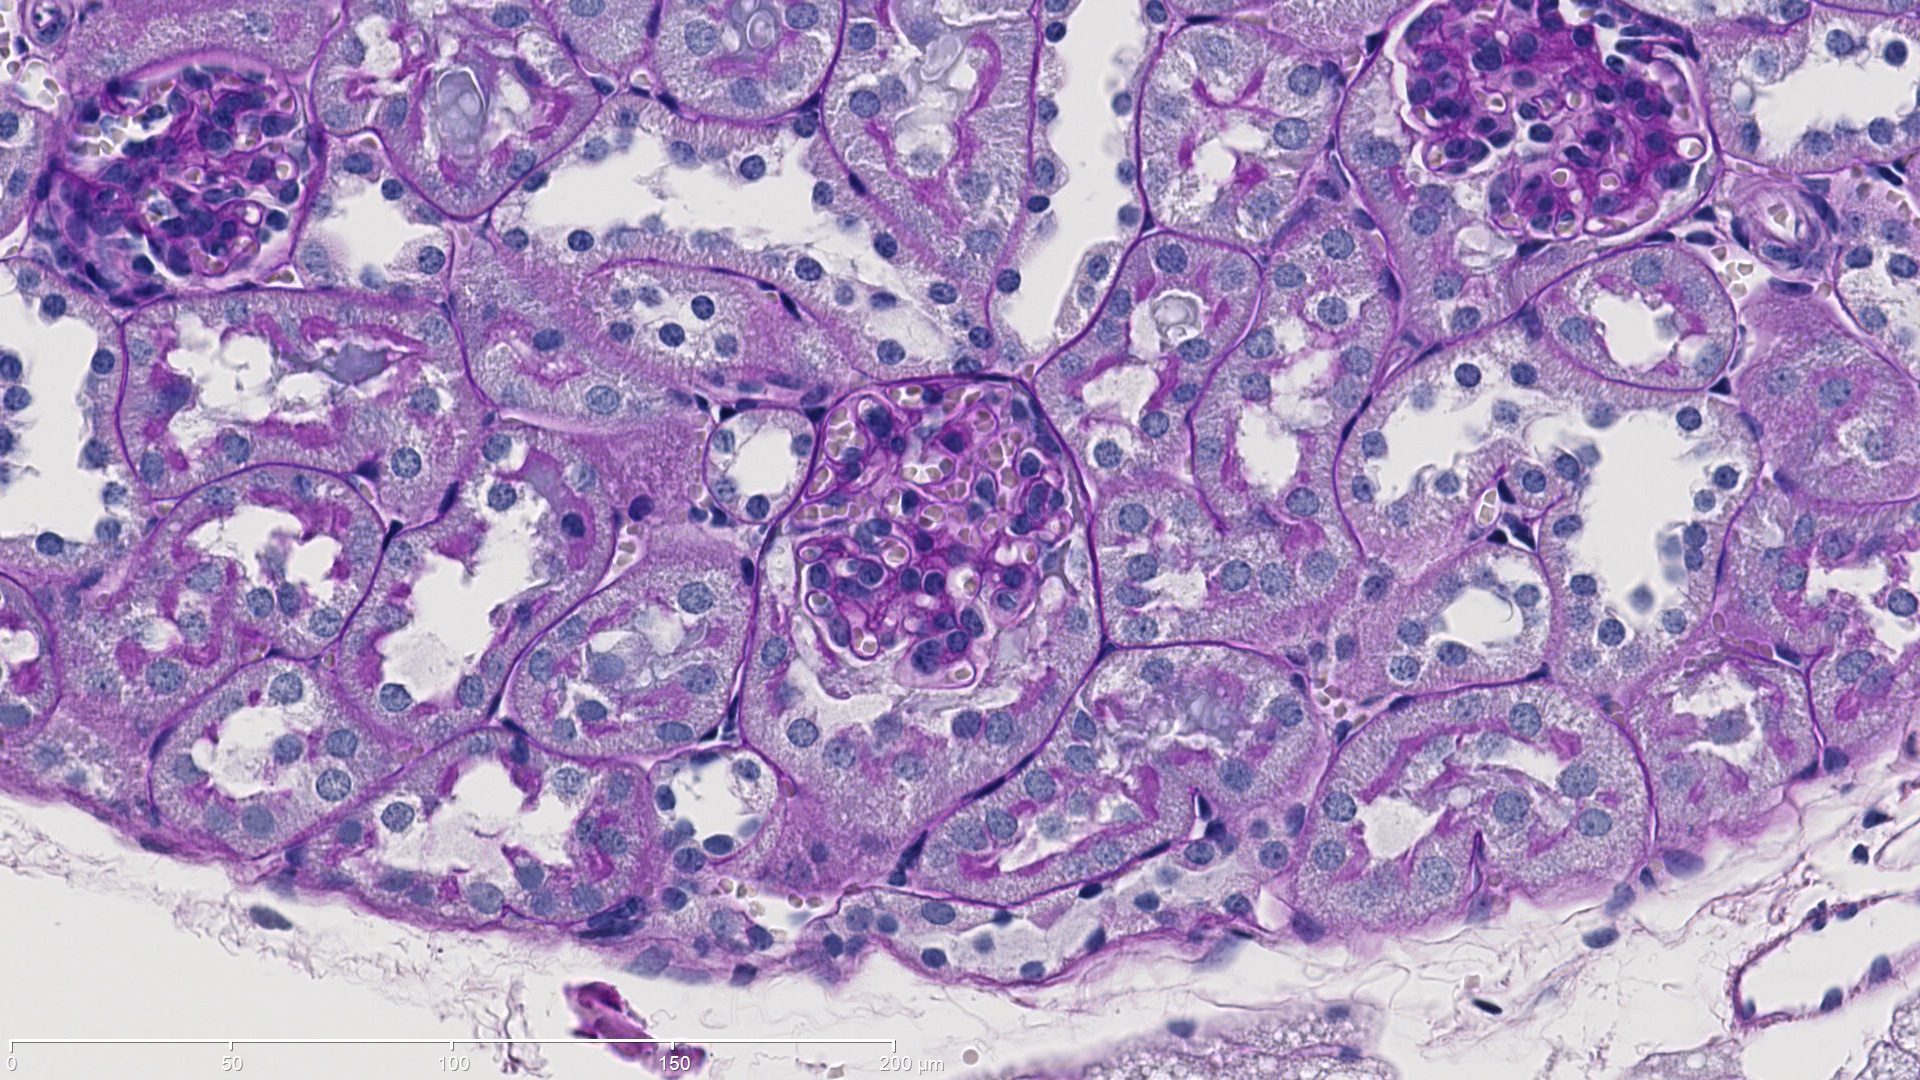Glomeruli: (773, 372, 1075, 704), (42, 37, 338, 310), (1394, 1, 1724, 243)
